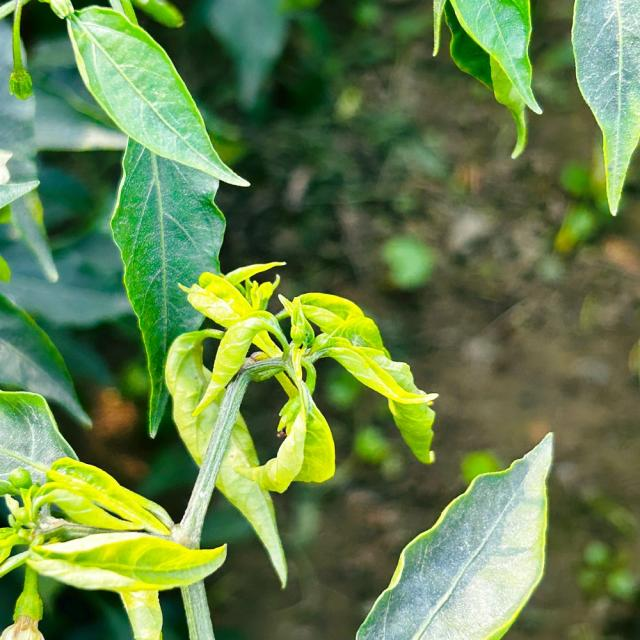Chilli_Leaf_Curl: (1, 0, 555, 638), (163, 259, 439, 589), (62, 4, 251, 438), (1, 388, 228, 638), (354, 431, 555, 638), (108, 134, 229, 438), (63, 3, 251, 188), (162, 326, 288, 588), (430, 0, 543, 159), (569, 0, 638, 216), (25, 529, 228, 593), (0, 291, 93, 430), (40, 455, 175, 536), (0, 388, 79, 496)
